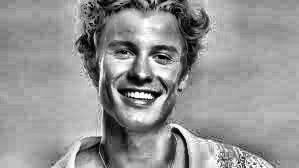happy: (89, 2, 188, 149)
